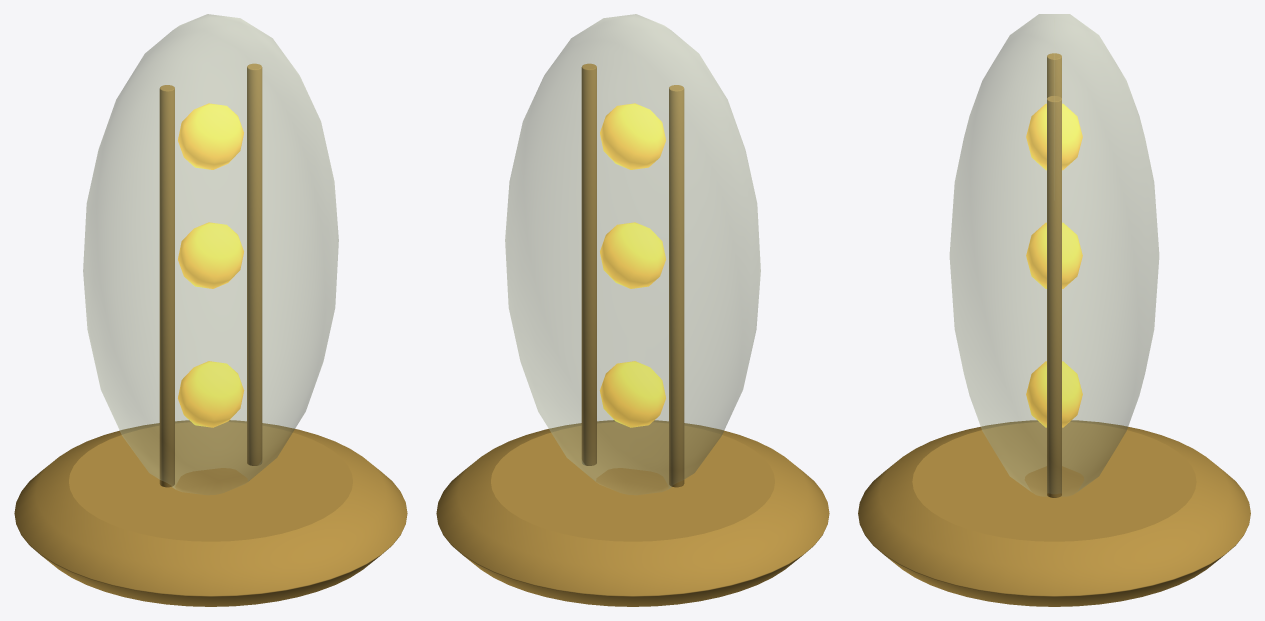
The picture shows the model from 3 angles, left to right: view 1: azimuth 30°, elevation 25°; view 2: azimuth 150°, elevation 25°; view 3: azimuth 270°, elevation 25°; orthographic projection.
Parts seen in each view (by area): view 1: TI060 / elliptical clear cocoon, TI060 / stepped circular cocoon plinth, TI060 / internal suspension rod, TI060 / internal suspension rod.001, TI060 / internal therapeutic light, TI060 / internal therapeutic light.002, TI060 / internal therapeutic light.001; view 2: TI060 / elliptical clear cocoon, TI060 / stepped circular cocoon plinth, TI060 / internal suspension rod, TI060 / internal suspension rod.001, TI060 / internal therapeutic light, TI060 / internal therapeutic light.002, TI060 / internal therapeutic light.001; view 3: TI060 / elliptical clear cocoon, TI060 / stepped circular cocoon plinth, TI060 / internal suspension rod.001, TI060 / internal therapeutic light.002, TI060 / internal therapeutic light.001, TI060 / internal therapeutic light, TI060 / internal suspension rod.
Part boxes in pixels (box(x1,y1,x2,y2)): TI060 / elliptical clear cocoon: box(83, 14, 338, 494); TI060 / stepped circular cocoon plinth: box(14, 420, 407, 606); TI060 / internal suspension rod: box(159, 85, 174, 487); TI060 / internal suspension rod.001: box(247, 63, 262, 465); TI060 / internal therapeutic light: box(178, 361, 244, 427); TI060 / internal therapeutic light.002: box(178, 103, 243, 169); TI060 / internal therapeutic light.001: box(178, 222, 243, 288); TI060 / elliptical clear cocoon: box(505, 14, 760, 494); TI060 / stepped circular cocoon plinth: box(436, 420, 829, 606); TI060 / internal suspension rod: box(669, 85, 684, 487); TI060 / internal suspension rod.001: box(581, 63, 596, 465); TI060 / internal therapeutic light: box(599, 361, 665, 427); TI060 / internal therapeutic light.002: box(600, 103, 665, 169); TI060 / internal therapeutic light.001: box(600, 222, 665, 288); TI060 / elliptical clear cocoon: box(949, 14, 1159, 496); TI060 / stepped circular cocoon plinth: box(858, 420, 1250, 606); TI060 / internal suspension rod.001: box(1047, 95, 1061, 497); TI060 / internal therapeutic light.002: box(1026, 103, 1082, 170); TI060 / internal therapeutic light.001: box(1026, 222, 1082, 288); TI060 / internal therapeutic light: box(1026, 361, 1082, 427); TI060 / internal suspension rod: box(1047, 53, 1061, 97).
Bounding box in the file's own units: 1.8 × 2.6 × 1.8.
